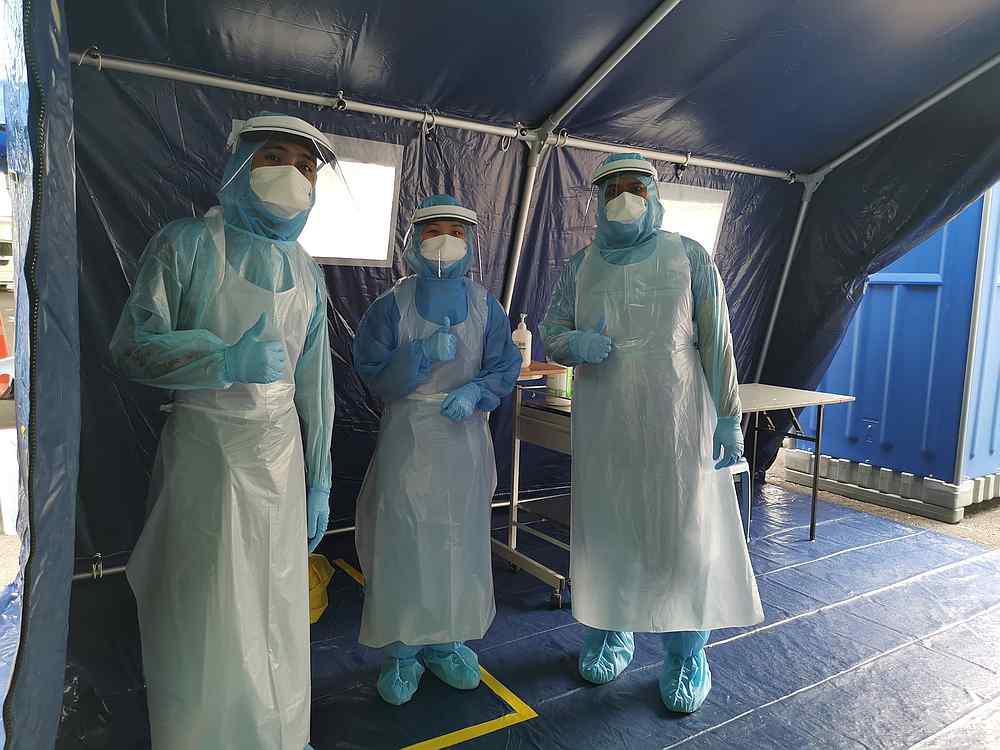Coverall: (115, 117, 341, 750), (540, 154, 745, 625), (356, 200, 520, 639)
Gloves: (222, 311, 285, 386), (571, 311, 615, 371), (707, 415, 747, 470), (301, 478, 330, 553), (424, 318, 460, 365), (443, 382, 480, 425)
with_mask: (247, 154, 315, 224), (411, 225, 471, 273), (600, 183, 650, 229)
